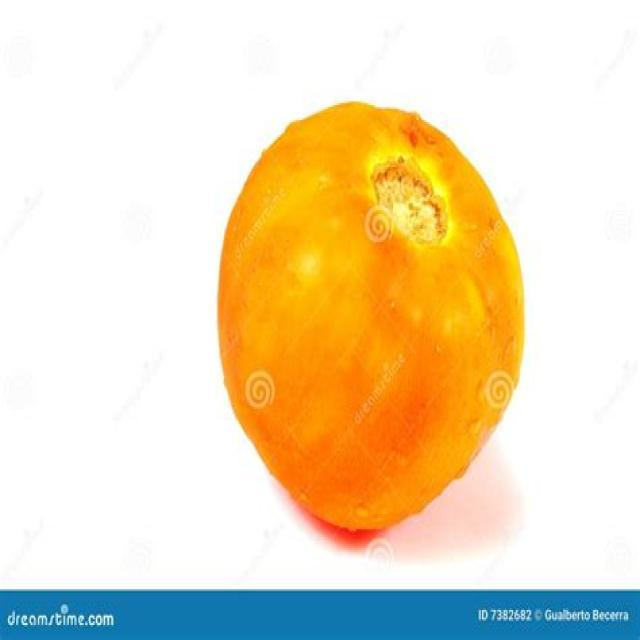Tomato: (216, 101, 527, 537)
